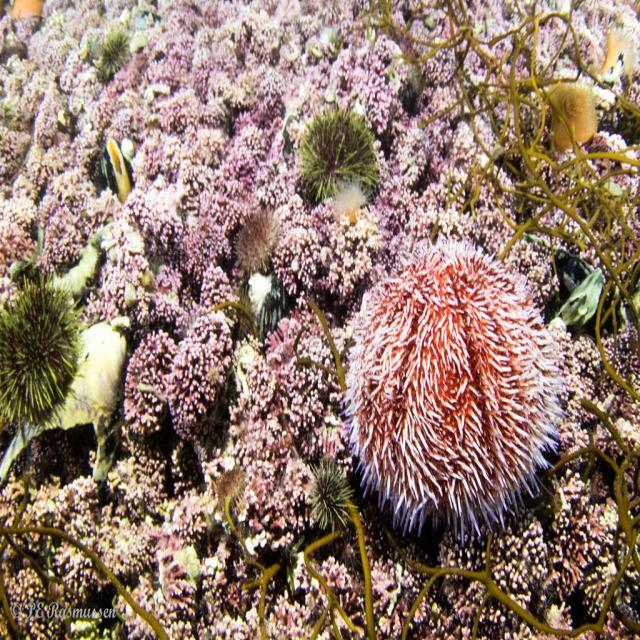Deniz Kestanesi: (340, 237, 566, 545)
